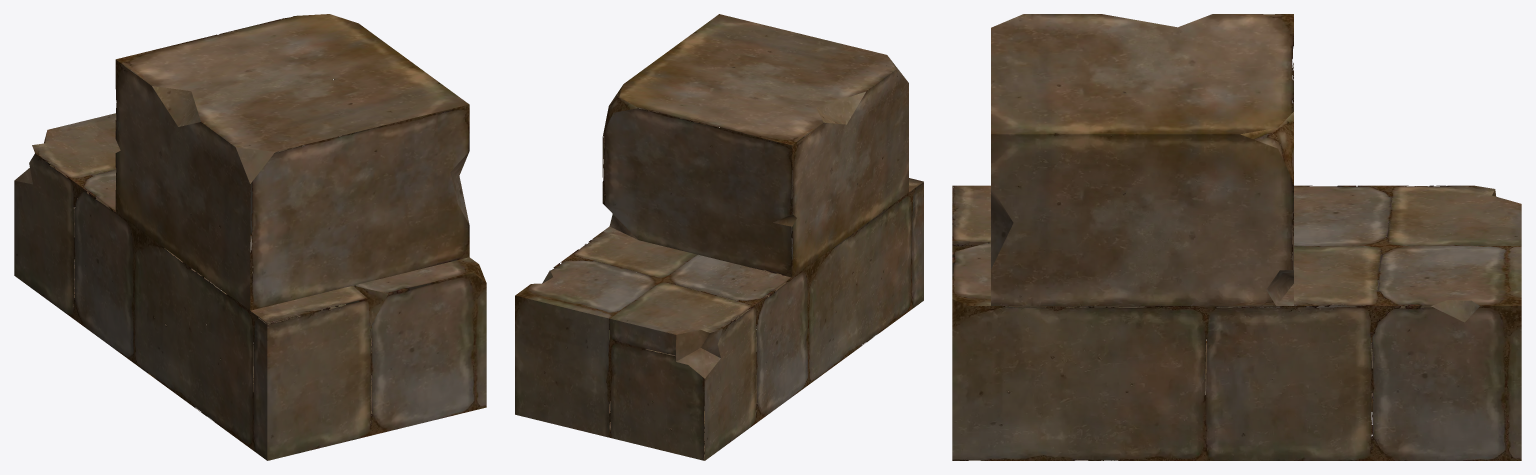
3 views of the same model, side by side, from view 1: azimuth 30°, elevation 25°; view 2: azimuth 150°, elevation 25°; view 3: azimuth 270°, elevation 25° (orthographic). The views are drawn at different scales.
Visible parts, largest first — view 1: SM_DK_Crumbled_BrickWall_03_LOD0; view 2: SM_DK_Crumbled_BrickWall_03_LOD0; view 3: SM_DK_Crumbled_BrickWall_03_LOD0.
Boxes of the visible parts, box(x1,y1,x2,y2) form: SM_DK_Crumbled_BrickWall_03_LOD0: box(14, 14, 486, 460); SM_DK_Crumbled_BrickWall_03_LOD0: box(515, 14, 923, 460); SM_DK_Crumbled_BrickWall_03_LOD0: box(952, 14, 1521, 460).
Size of the model in its own units: 2 by 2.53 by 4.
1 material, 1 textured.
